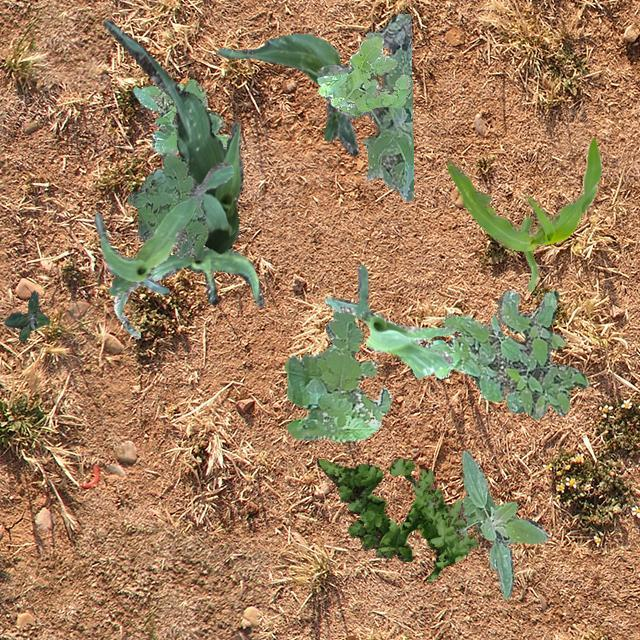crop: (102, 19, 242, 252), (446, 137, 600, 290), (92, 162, 232, 294), (215, 32, 358, 154), (323, 264, 458, 378), (112, 245, 264, 338)
weed: (424, 288, 588, 418), (316, 456, 478, 580), (316, 12, 414, 200), (454, 450, 548, 598), (284, 310, 389, 440), (126, 152, 207, 258), (316, 34, 410, 114), (132, 78, 228, 154), (4, 290, 48, 340)
